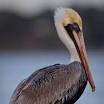pelican: (1, 7, 101, 104)
